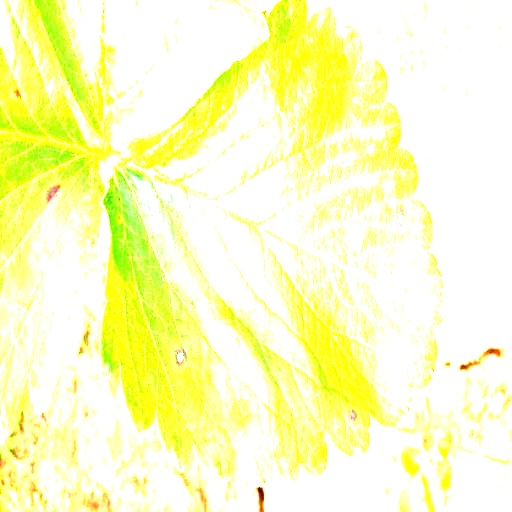Leaf Spot: (97, 0, 447, 488), (34, 0, 277, 148)
